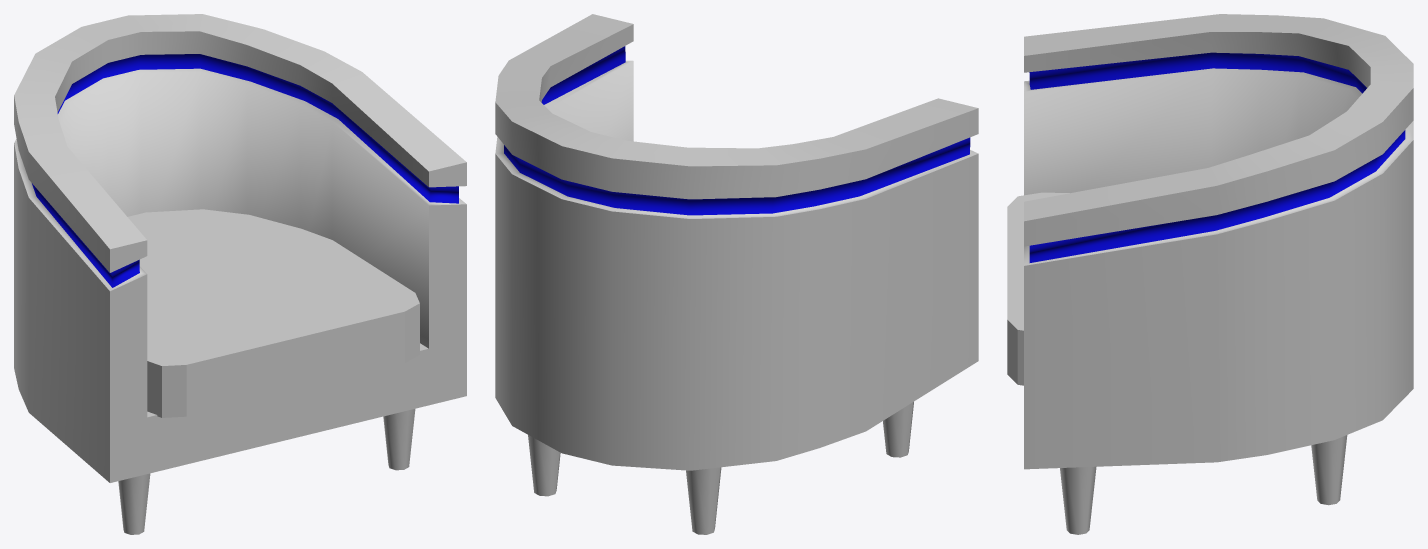
The model's file is Armchair.fbx.
The picture shows the model from 3 angles, left to right: view 1: azimuth 30°, elevation 25°; view 2: azimuth 150°, elevation 25°; view 3: azimuth 270°, elevation 25°; orthographic projection. The views are drawn at different scales.
Visible parts, largest first — view 1: Armchair; view 2: Armchair; view 3: Armchair.
Boxes of the visible parts, x1,y1,x2,y2 form: Armchair: (14, 14, 466, 534); Armchair: (495, 14, 978, 534); Armchair: (1007, 14, 1413, 534).
Size of the model in its own units: 0.9142 by 0.8865 by 0.8495.
